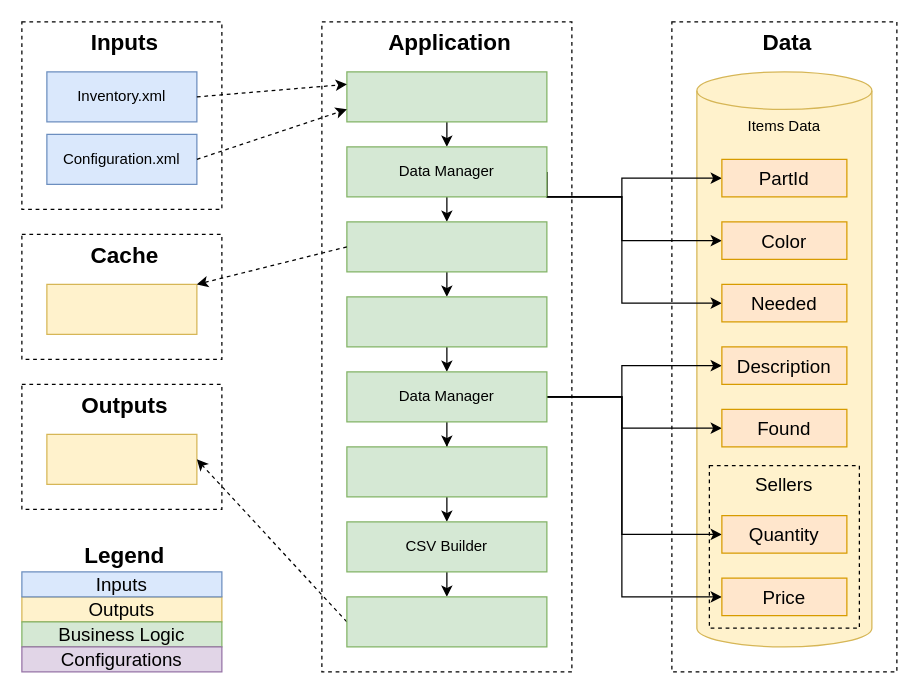
The diagram is 919 pixels wide and 694 high, and some of its shapes have lost their labels. The shapes that lost their labels are listed below. From the top down, each one's centre as x and y in pixels, then its label:
At pixel 446 96: "XML Deserializer".
At pixel 446 246: "Part File Store".
At pixel 121 308: "partid color cond type max_price.html".
At pixel 446 321: "Web Scraper".
At pixel 121 458: "Results.csv".
At pixel 446 471: "Store Weigher".
At pixel 446 621: "CSV Printer".
